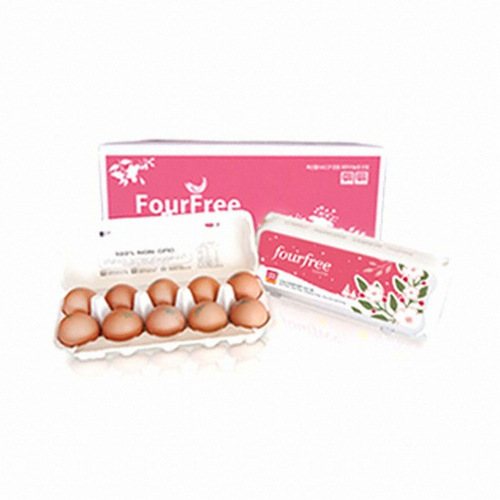egg: (51, 271, 273, 346)
